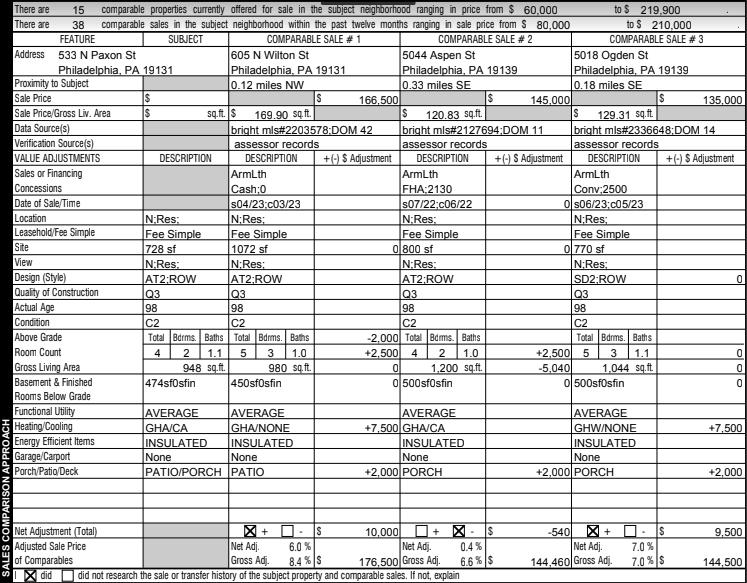checked: (242, 522, 259, 540), (451, 523, 468, 540), (586, 523, 601, 540)
unchecked: (280, 523, 296, 540), (415, 523, 430, 540), (623, 523, 638, 540)
